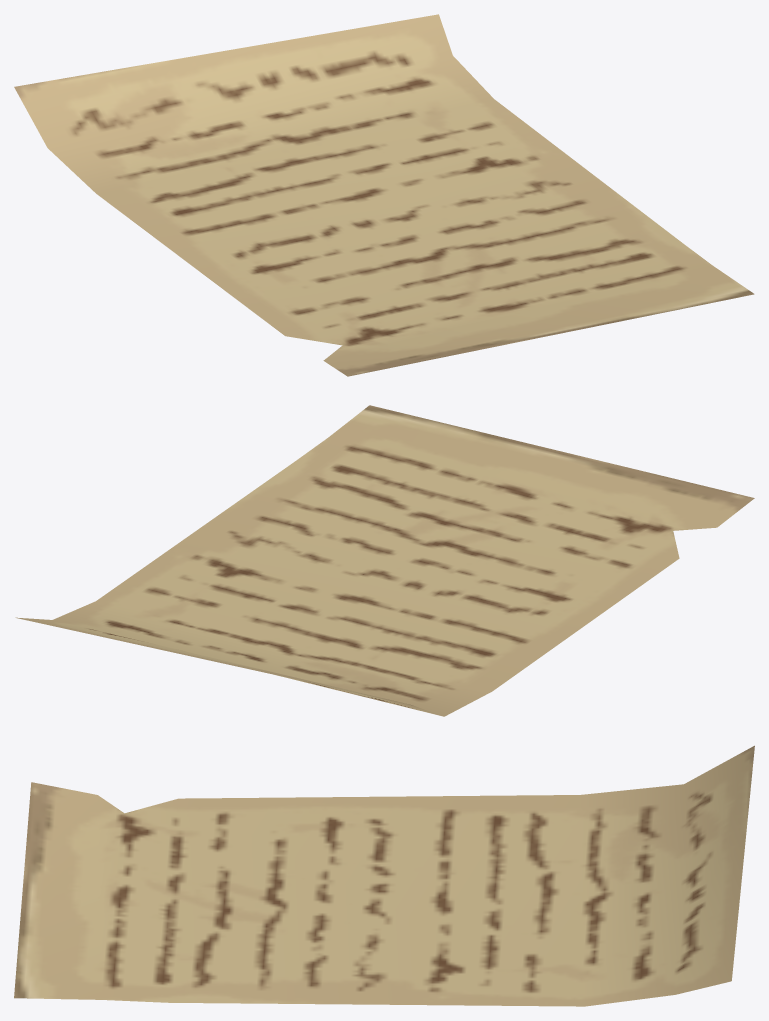
The model's file is SM_PROP_paper_battle_01.fbx.
The picture shows the model from 3 angles, top to bottom: view 1: azimuth 30°, elevation 25°; view 2: azimuth 150°, elevation 25°; view 3: azimuth 270°, elevation 25°; orthographic projection. The views are drawn at different scales.
Visible parts, largest first — view 1: SM_PROP_paper_battle_01; view 2: SM_PROP_paper_battle_01; view 3: SM_PROP_paper_battle_01.
Part boxes in pixels (left/top/right/bottom): SM_PROP_paper_battle_01: left=14, top=14, right=754, bottom=376; SM_PROP_paper_battle_01: left=15, top=405, right=754, bottom=716; SM_PROP_paper_battle_01: left=14, top=745, right=754, bottom=1006.
Size of the model in its own units: 32.47 by 3.76 by 46.61.
